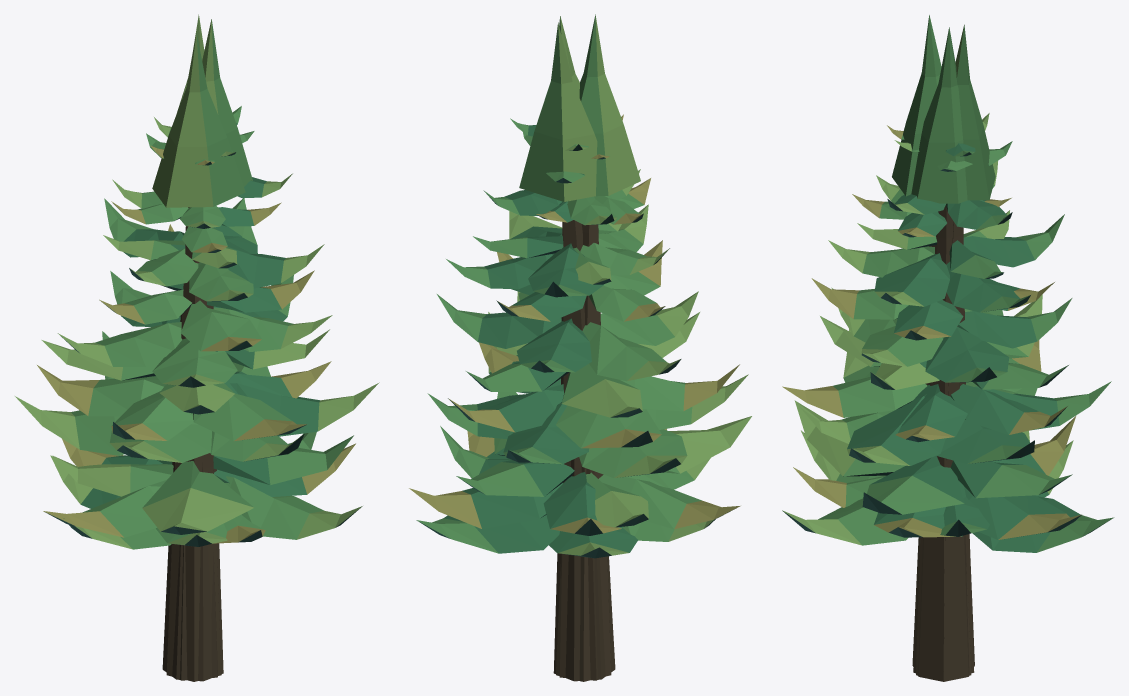
Rendered from woodland-camp-pines.glb.
The picture shows the model from 3 angles, left to right: view 1: azimuth 30°, elevation 25°; view 2: azimuth 150°, elevation 25°; view 3: azimuth 270°, elevation 25°; orthographic projection.
Visible parts, largest first — view 1: Camp pine near, Camp pine middle, Camp pine far; view 2: Camp pine near, Camp pine middle, Camp pine far; view 3: Camp pine near, Camp pine middle, Camp pine far.
Boxes of the visible parts, x1,y1,x2,y2 form: Camp pine near: (15, 19, 379, 681); Camp pine middle: (37, 32, 355, 681); Camp pine far: (41, 14, 353, 680); Camp pine near: (416, 16, 748, 681); Camp pine middle: (409, 14, 740, 681); Camp pine far: (456, 22, 751, 680); Camp pine near: (782, 27, 1114, 681); Camp pine middle: (782, 15, 1081, 675); Camp pine far: (794, 24, 1072, 673).
Bounding box in the file's own units: 0.478 × 1 × 0.4635.
